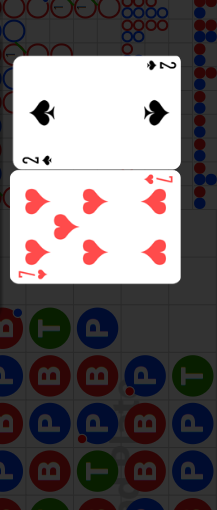2S: (143, 60, 177, 73)
7H: (142, 174, 173, 187)
